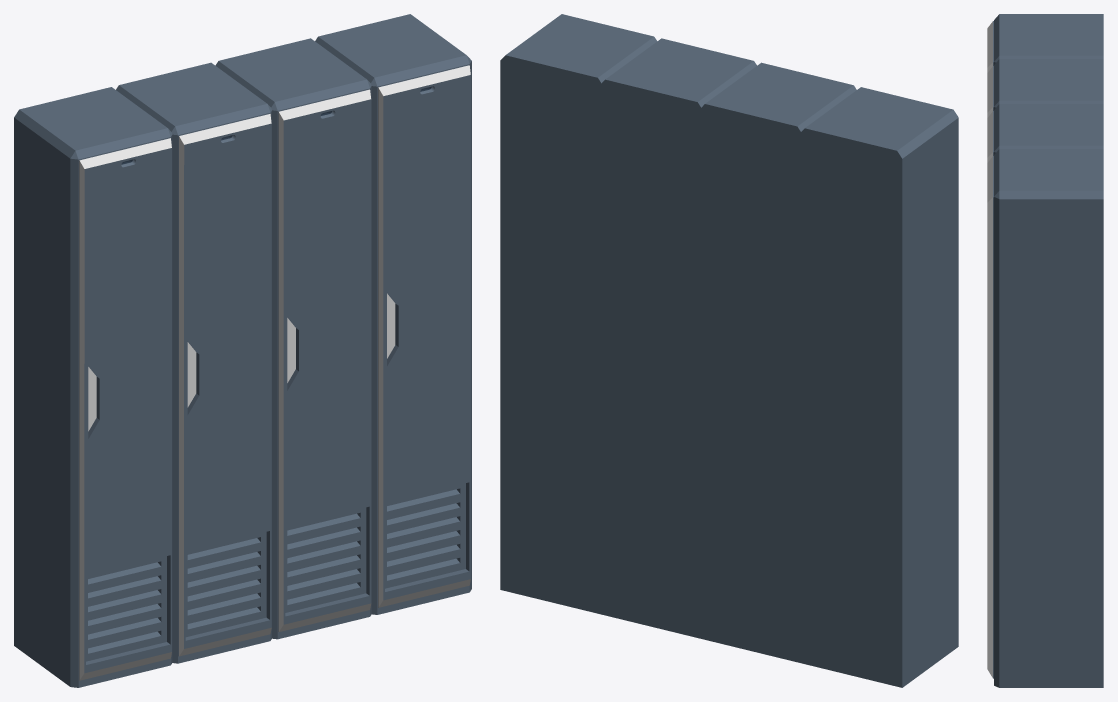
Rendered from Cabinet-1.fbx.
3 renders of one model, left to right at view 1: azimuth 30°, elevation 25°; view 2: azimuth 150°, elevation 25°; view 3: azimuth 270°, elevation 25°, orthographic. The views are drawn at different scales.
Visible parts, largest first — view 1: Cabinet-2; view 2: Cabinet-2; view 3: Cabinet-2.
Boxes of the visible parts, <box> form: Cabinet-2: <box>14,14,471,687</box>; Cabinet-2: <box>500,14,958,687</box>; Cabinet-2: <box>987,14,1103,687</box>.
Bounding box in the file's own units: 1.96 × 2.49 × 0.53.
